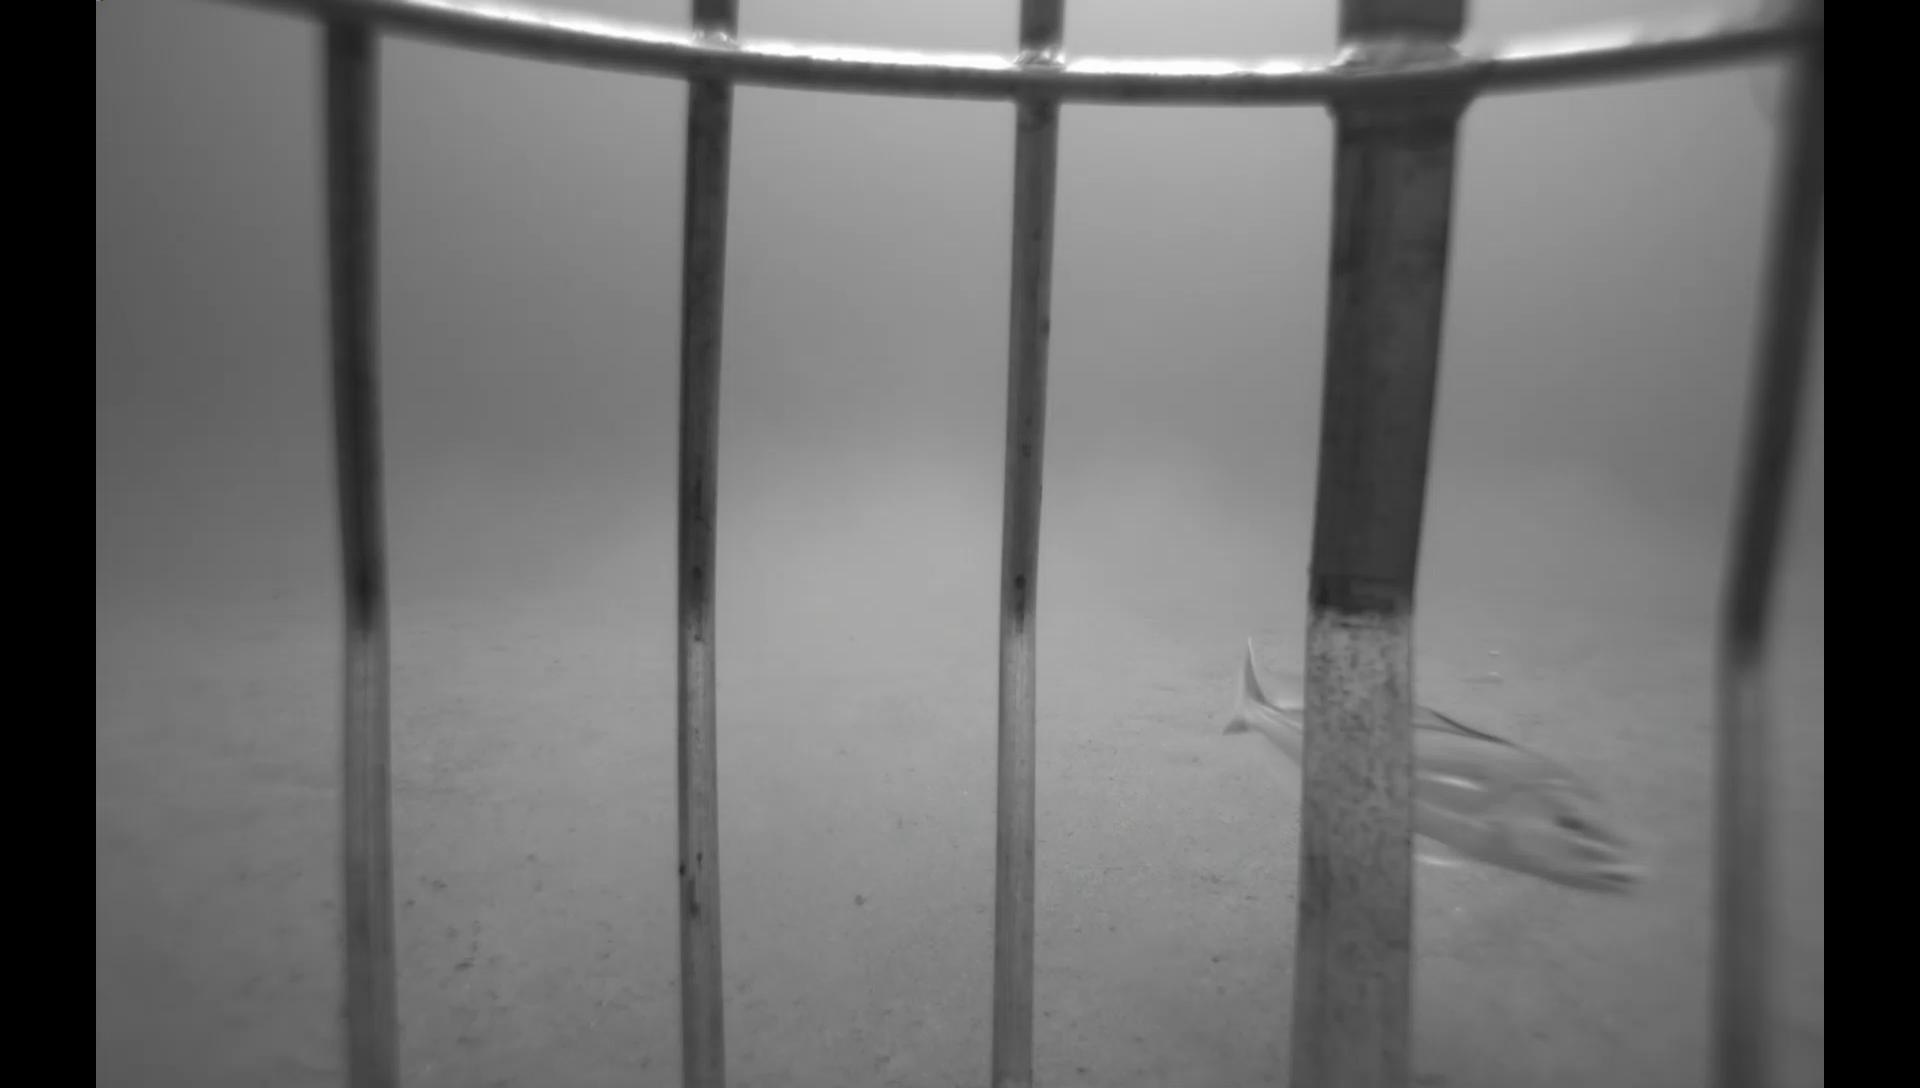CAULOLATILUSCYANOPS-170070101: (1216, 630, 1665, 909)
SYACIUM-183011000: (1167, 712, 1237, 742)
